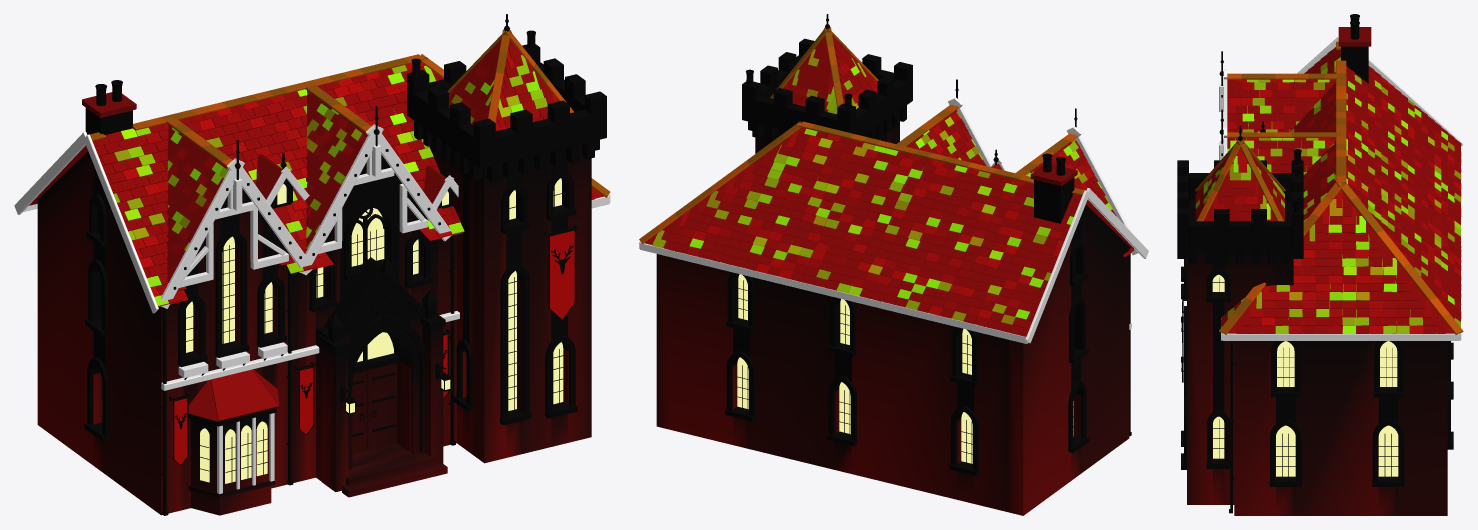
File: SilverbrookNorthridgeHouse5.fbx
The picture shows the model from 3 angles, left to right: view 1: azimuth 30°, elevation 25°; view 2: azimuth 150°, elevation 25°; view 3: azimuth 270°, elevation 25°; orthographic projection. The views are drawn at different scales.
Visible parts, largest first — view 1: SM_SBNorthridgeHouse5_Masonry, SM_SBNorthridgeHouse5_Roof, SM_SBNorthridgeHouse5_Details, SM_SBNorthridgeHouse5_Timber; view 2: SM_SBNorthridgeHouse5_Masonry, SM_SBNorthridgeHouse5_Roof, SM_SBNorthridgeHouse5_Timber, SM_SBNorthridgeHouse5_Details; view 3: SM_SBNorthridgeHouse5_Masonry, SM_SBNorthridgeHouse5_Roof, SM_SBNorthridgeHouse5_Details, SM_SBNorthridgeHouse5_Timber.
Boxes of the visible parts, <box> form: SM_SBNorthridgeHouse5_Masonry: <box>37,44,606,515</box>; SM_SBNorthridgeHouse5_Roof: <box>29,29,610,421</box>; SM_SBNorthridgeHouse5_Details: <box>95,14,578,515</box>; SM_SBNorthridgeHouse5_Timber: <box>14,124,610,493</box>; SM_SBNorthridgeHouse5_Masonry: <box>656,38,1129,515</box>; SM_SBNorthridgeHouse5_Roof: <box>639,27,1134,336</box>; SM_SBNorthridgeHouse5_Timber: <box>639,97,1148,343</box>; SM_SBNorthridgeHouse5_Details: <box>737,14,1131,463</box>; SM_SBNorthridgeHouse5_Masonry: <box>1177,27,1453,515</box>; SM_SBNorthridgeHouse5_Roof: <box>1195,41,1463,334</box>; SM_SBNorthridgeHouse5_Details: <box>1181,14,1398,513</box>; SM_SBNorthridgeHouse5_Timber: <box>1218,37,1463,340</box>.
Bounding box in the file's own units: 1155 × 995 × 725.
